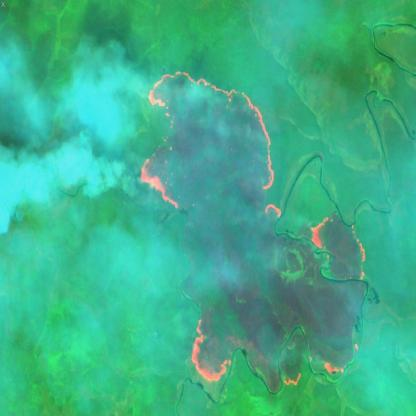fire: (139, 68, 369, 390)
